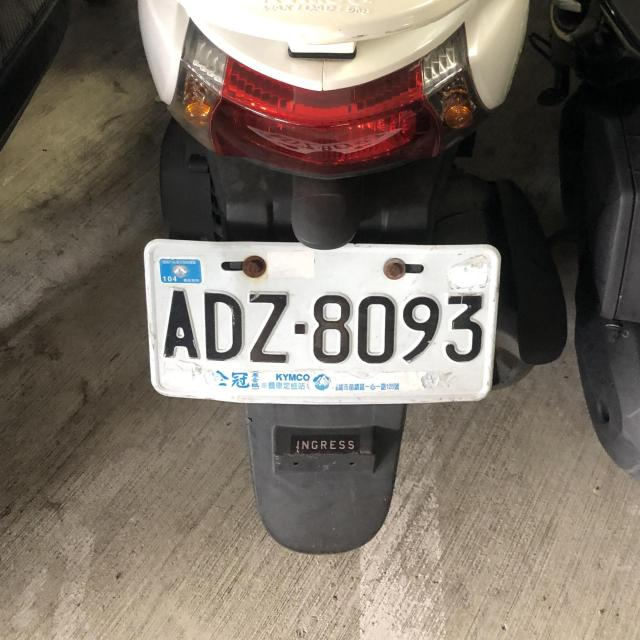W: (138, 234, 505, 408)
